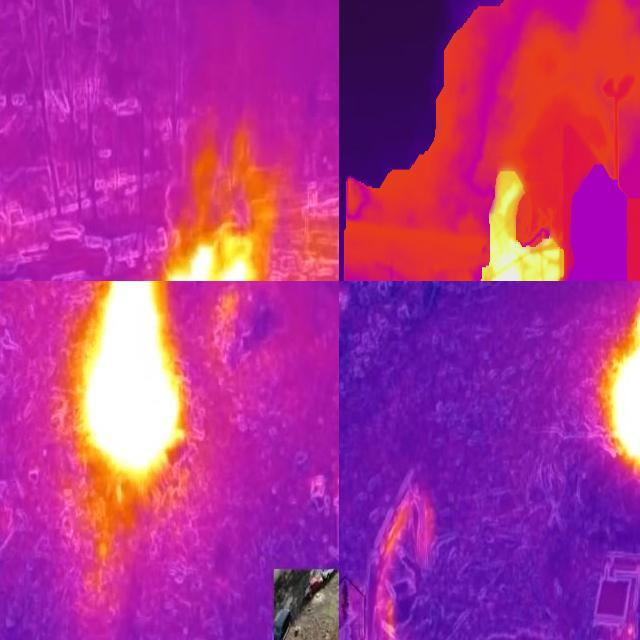fire: (77, 282, 184, 485), (474, 170, 565, 282), (601, 298, 640, 476), (136, 234, 266, 282)
